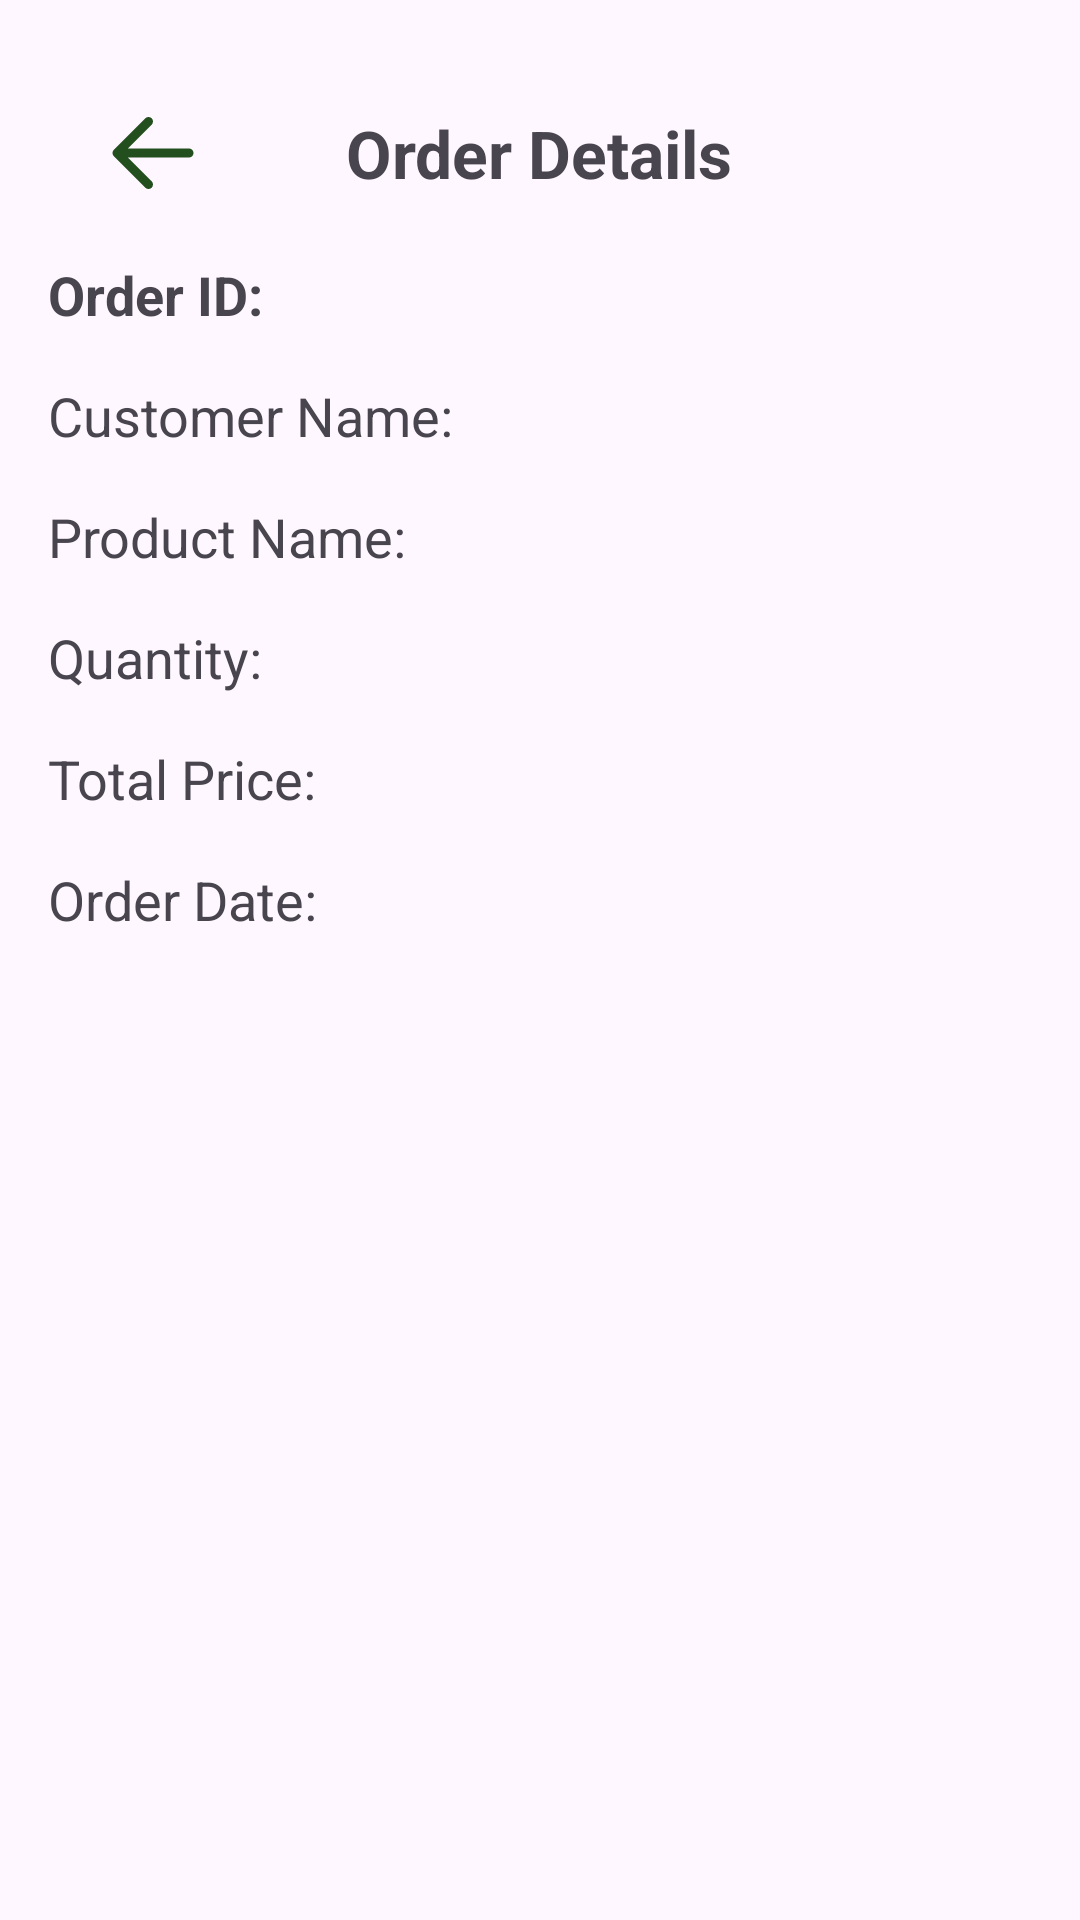

Screen size 1080 x 1920. Icon name, then its box in pixels as bbox=[x1, y1, x2, y2]:
back arrow: bbox=[112, 117, 194, 189]
